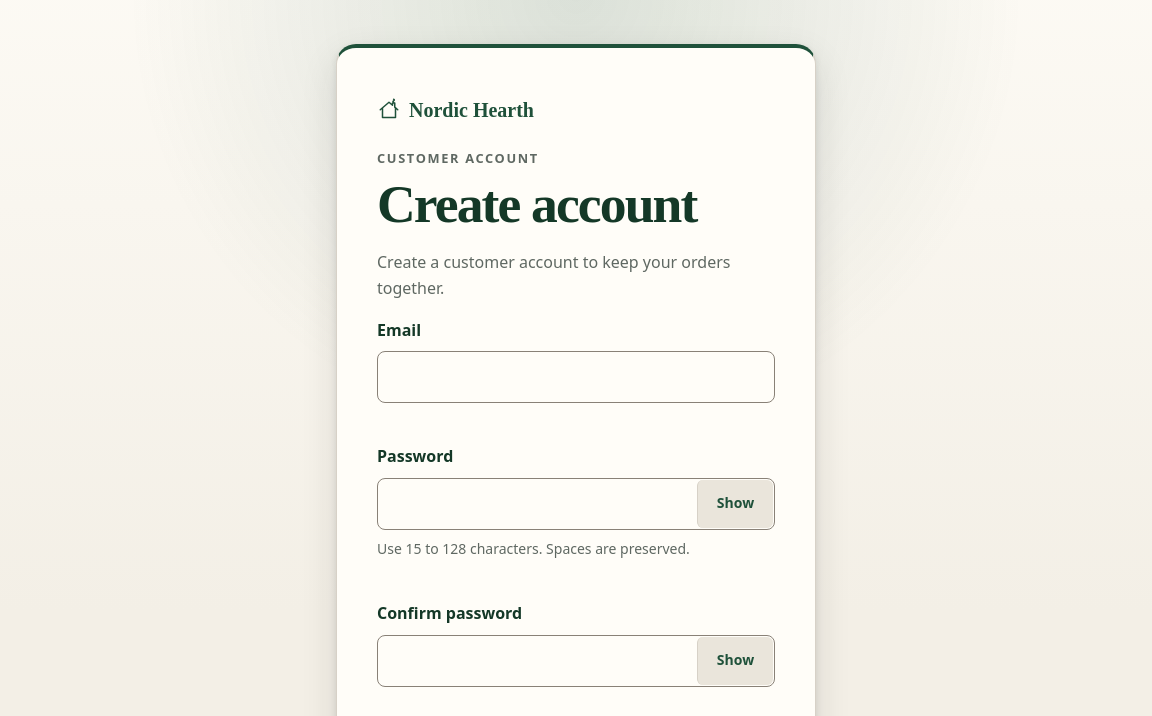
Scenario: shared registration page › toggles password visibility without changing its value or revealing after validation
Type " exact password " into the password field labelled "Password" at (576, 504), box [377, 478, 775, 530]
Type " exact password " into the password field labelled "Confirm password" at (576, 661), box [377, 635, 775, 687]
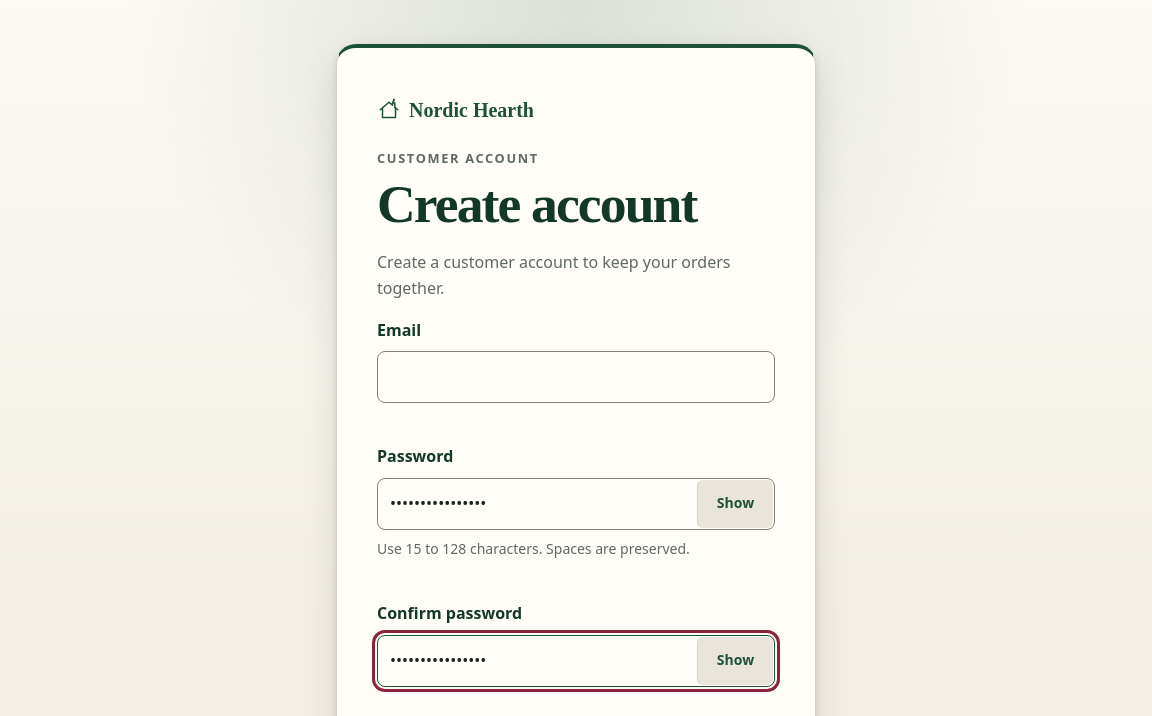
Click the button with aria-label "Show password" at (735, 504), box [697, 480, 773, 528]
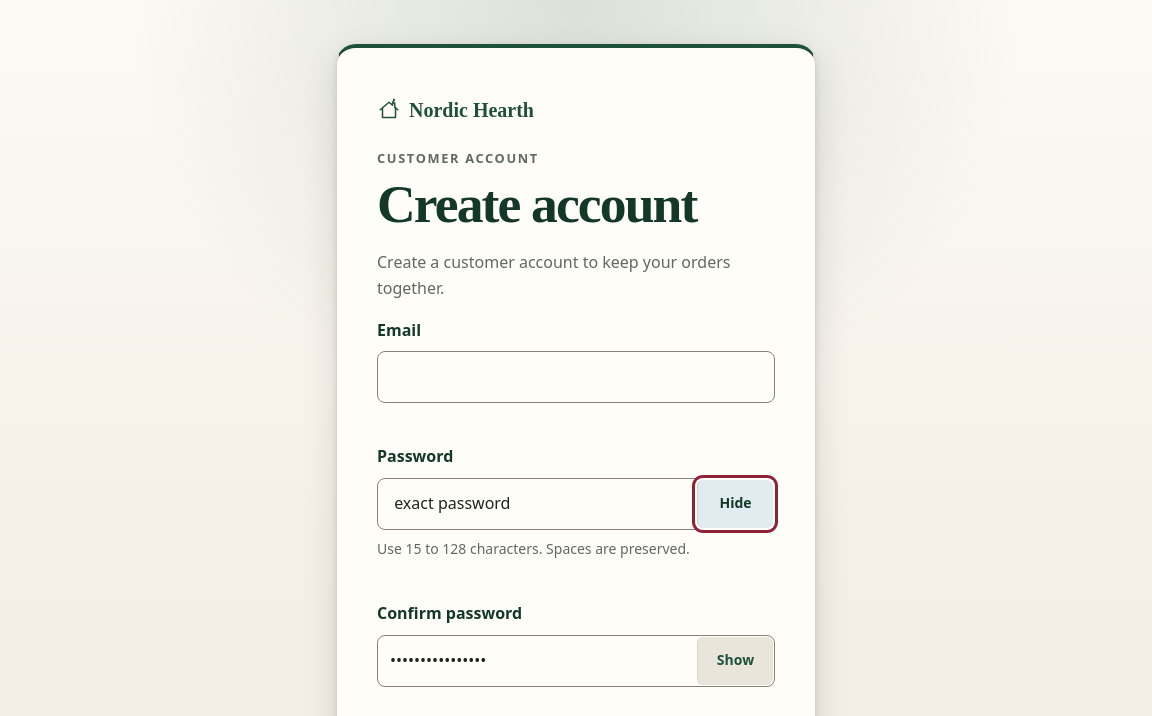
Result: the field labelled "Password" shows its text at [377, 478, 775, 530]
Click the button with aria-label "Hide password" at (735, 504), box [697, 480, 773, 528]
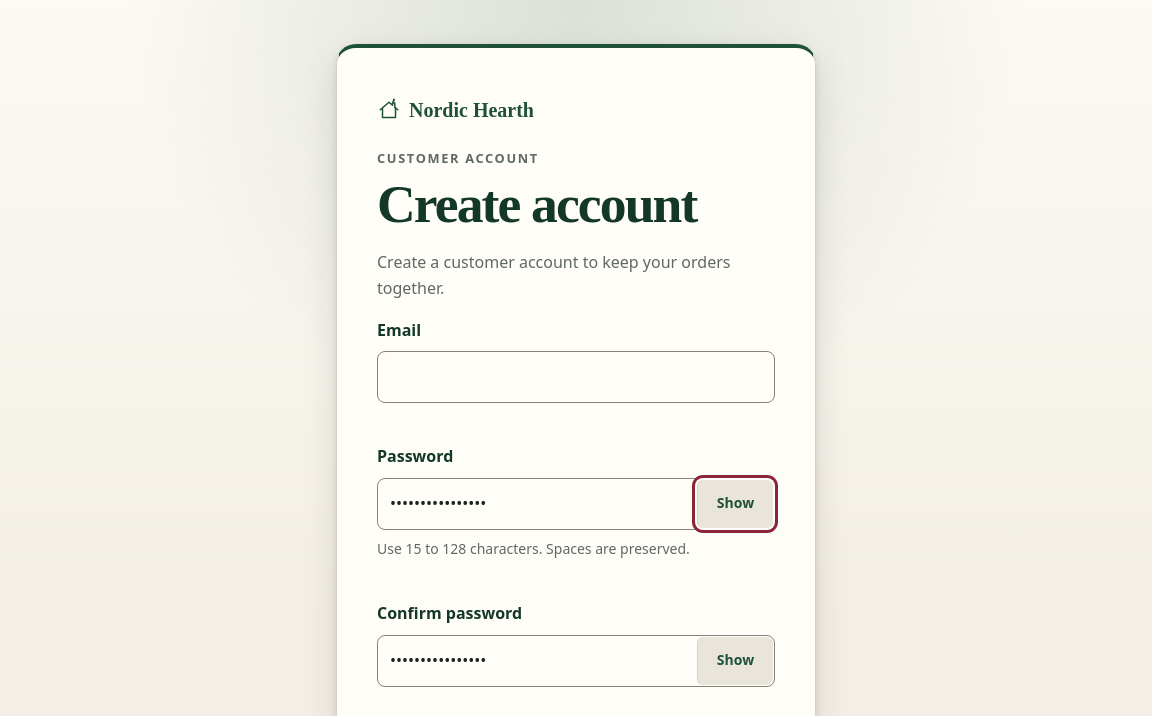
Click the button with aria-label "Show password confirmation" at (735, 661), box [697, 637, 773, 685]
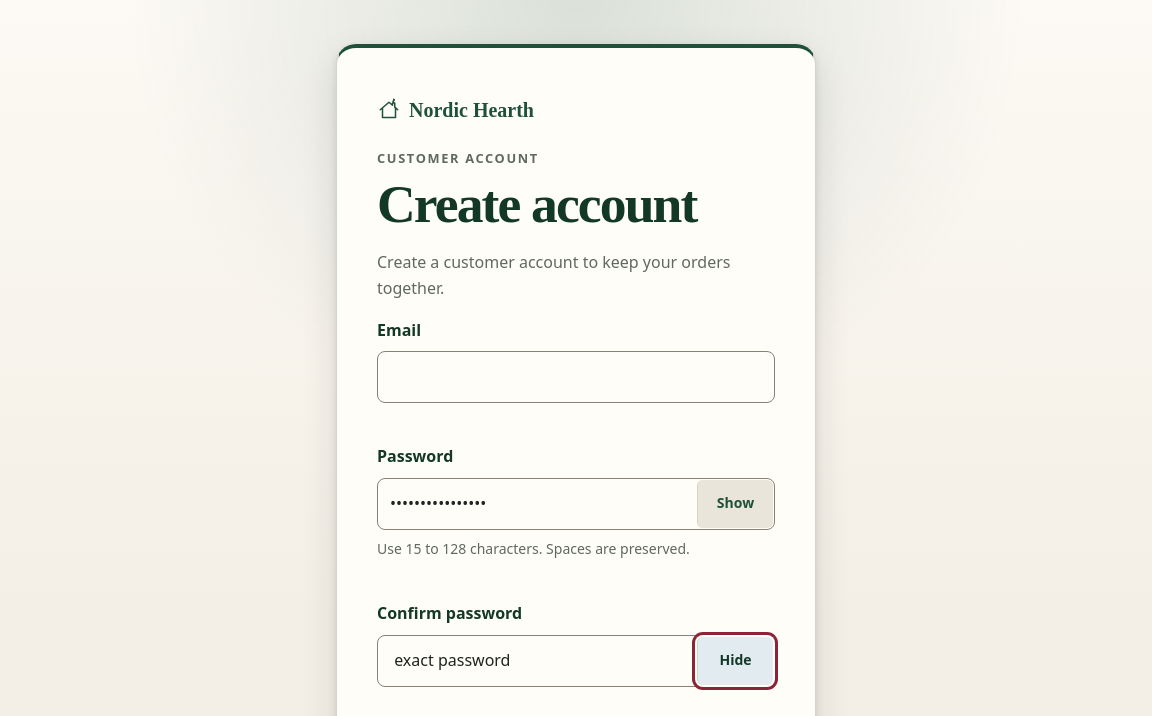
Result: the field labelled "Confirm password" shows its text at [377, 635, 775, 687]
Click the button with aria-label "Hide password confirmation" at (735, 661), box [697, 637, 773, 685]
(page scrolled)
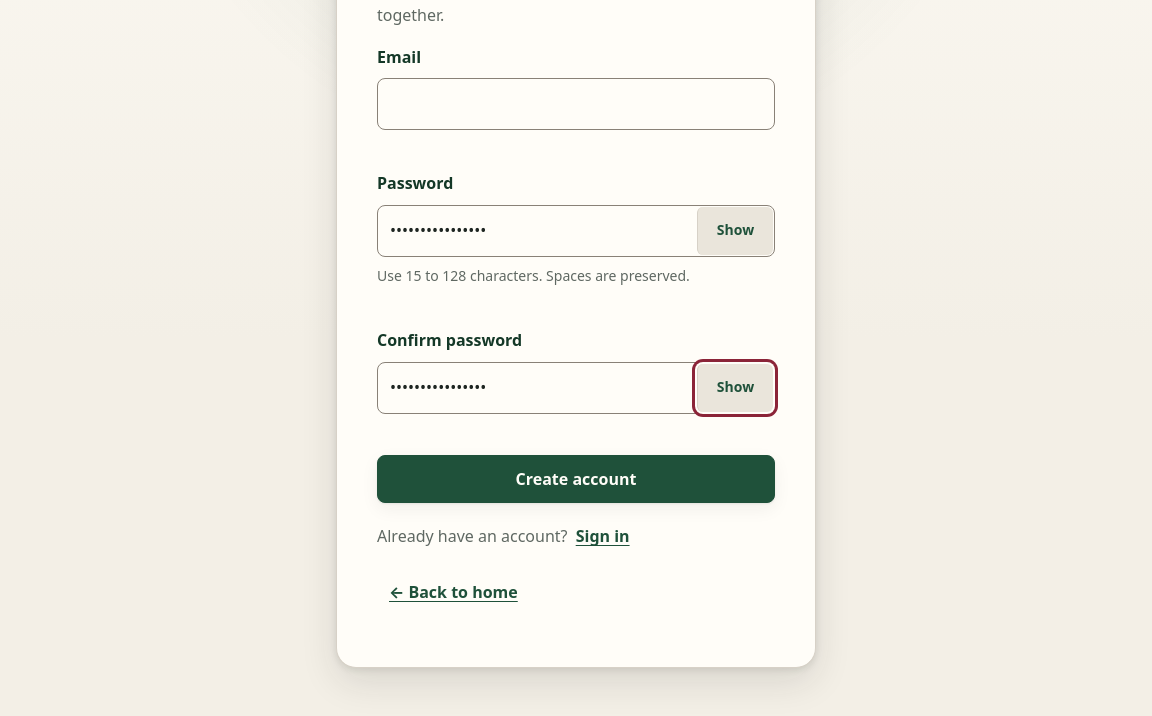
Click the button "Create account" at (576, 479), box [377, 455, 775, 503]
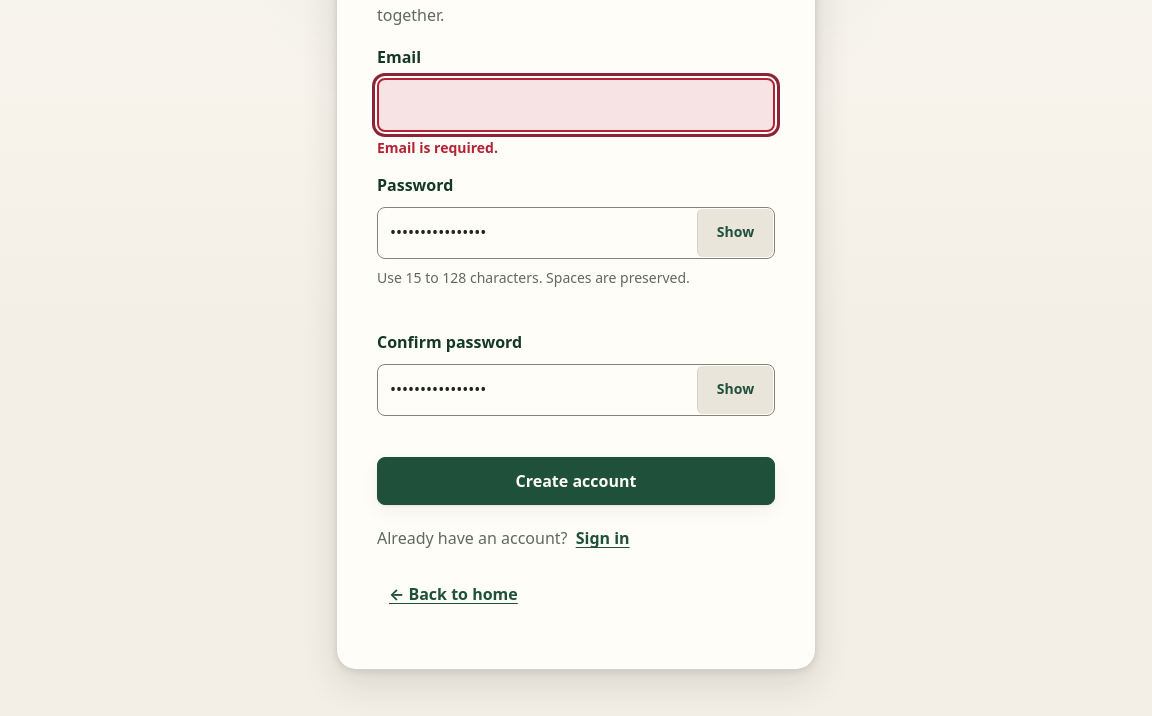
Result: the password field labelled "Password" hides its text at [377, 207, 775, 258]
Result: the password field labelled "Confirm password" hides its text at [377, 364, 775, 416]
Result: the text "Email is required." is shown at [377, 138, 498, 157]
